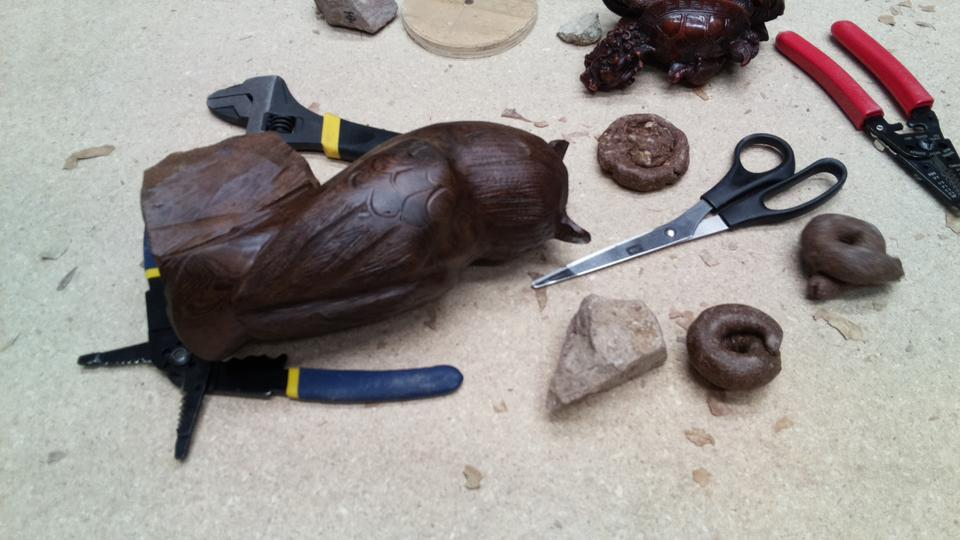poop: (796, 209, 909, 302), (678, 301, 787, 395), (596, 111, 693, 195)
